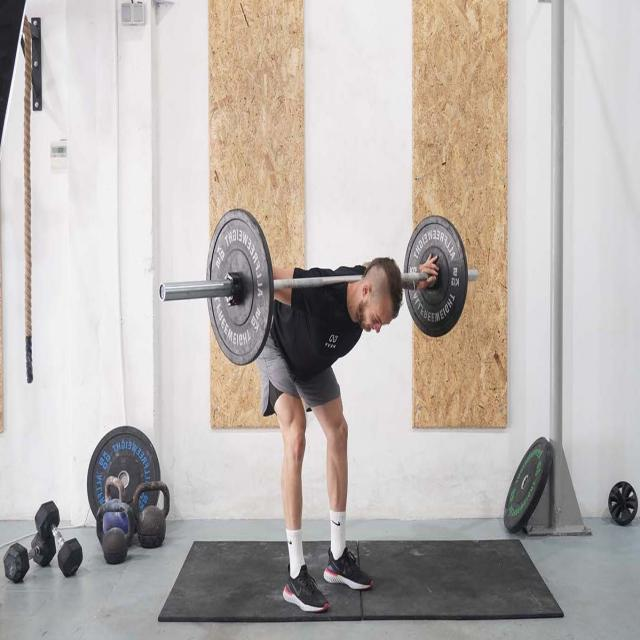barbell_plate_side: (159, 207, 239, 365), (399, 207, 479, 365)
